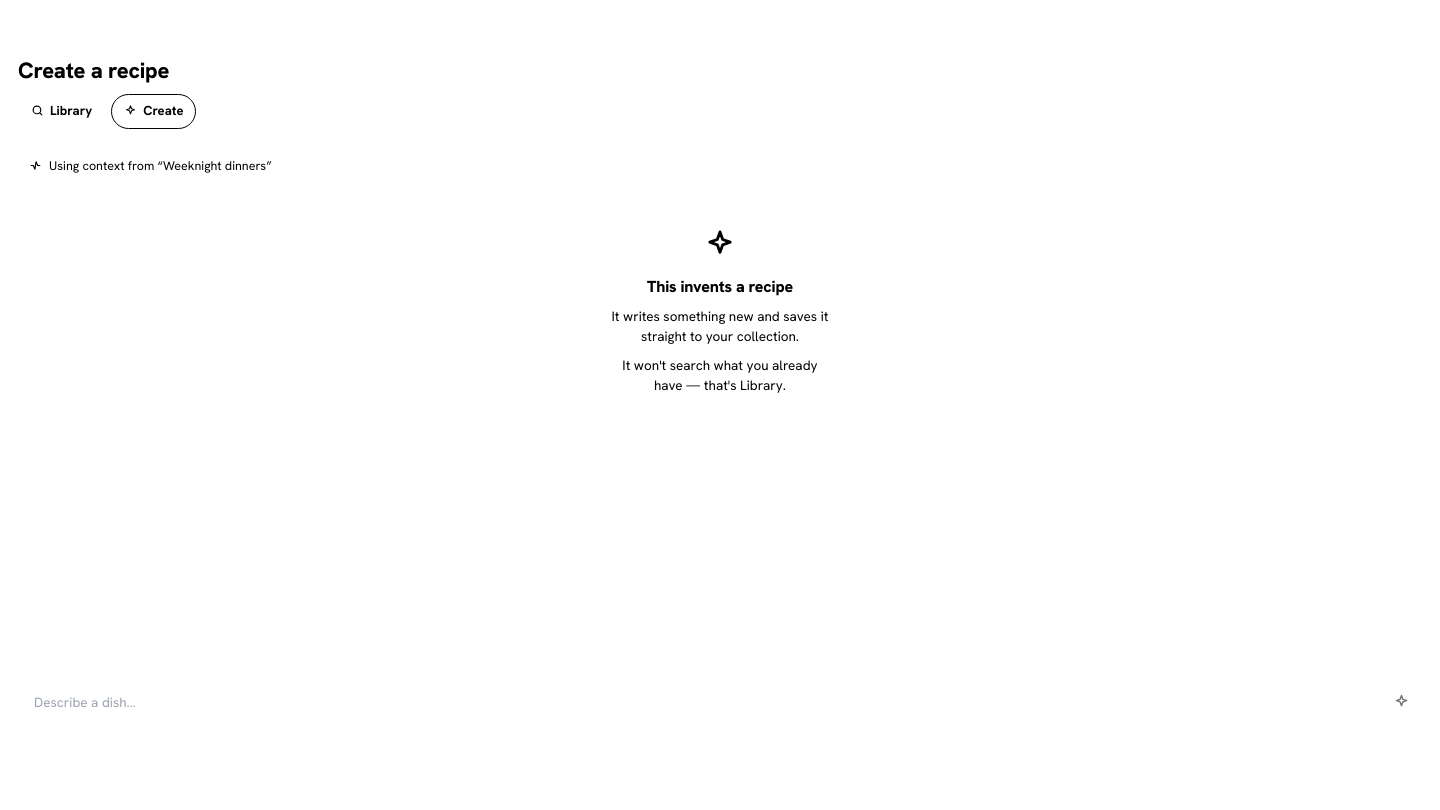
Test: Chat — Create mode › trims the prompt and clears the composer after a successful write
The image size is (1440, 810).
In the field named "Describe the recipe to generate": (694, 702) [18, 680, 1371, 724], type "  padded prompt  "
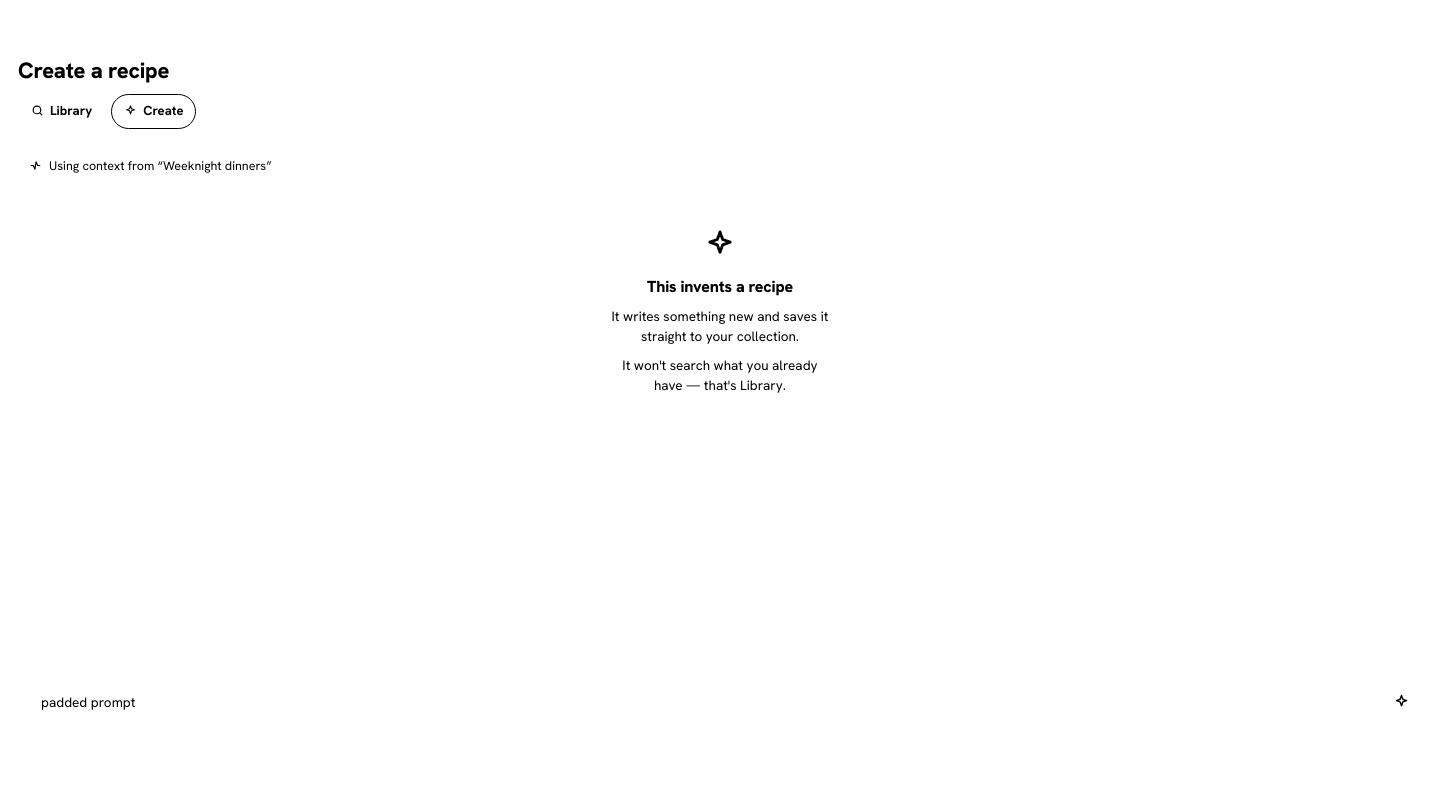
Click the button named "Generate recipe": (1401, 702) [1380, 681, 1422, 723]
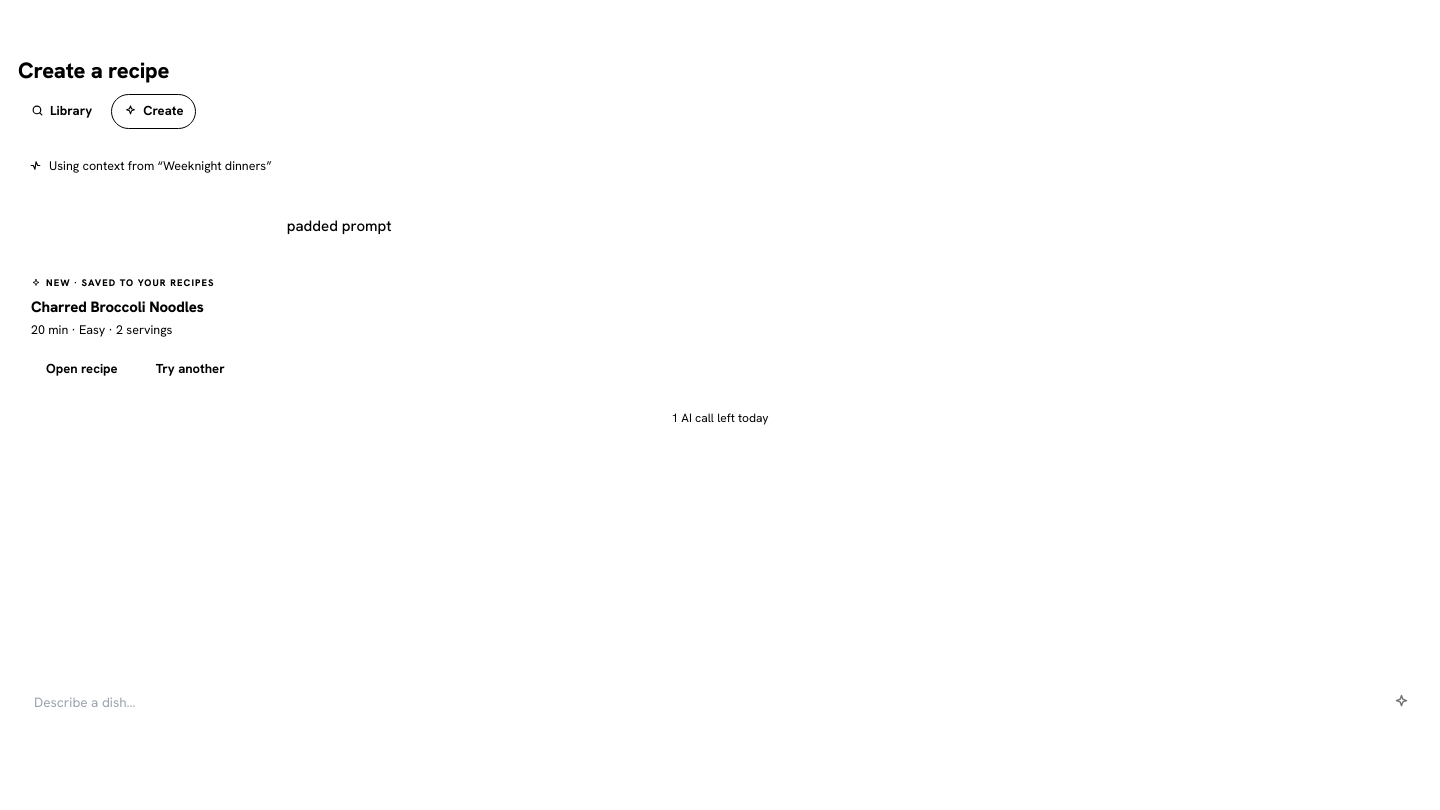
Now the text "padded prompt" is shown, box [287, 216, 392, 236]
Now the field named "Describe the recipe to generate" is empty, box [18, 680, 1371, 724]
